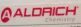SigmaAldrich: (1, 4, 80, 24)
